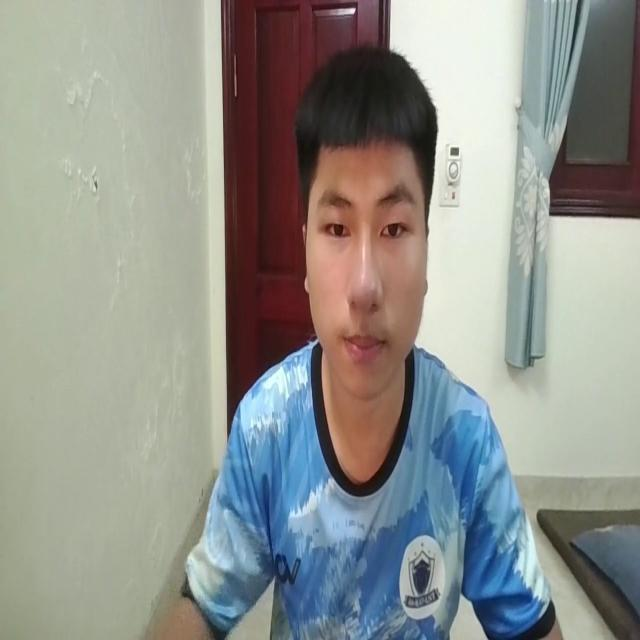student: (139, 42, 560, 640)
